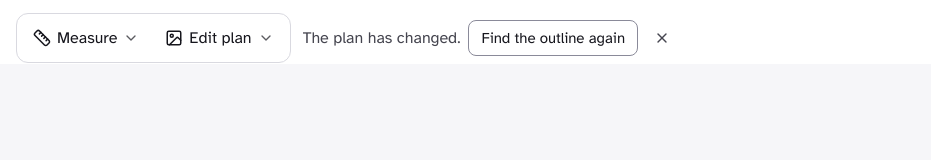
Test: the offer to find the outline again, after the plan’s image was edited › can be turned down, and stays turned down
Click the button named "Keep the outline as it is" at point(662, 38), box top-left (646, 22), bottom-right (678, 54)
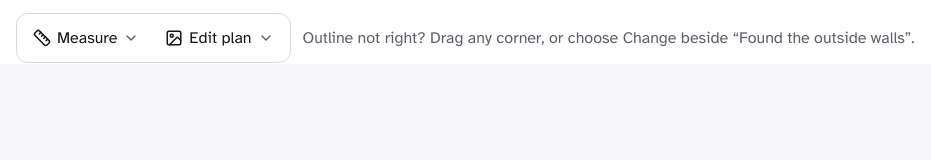
Check: the button "Find the outline again" is gone
Check: the text "Drag any corner" is shown, box top-left (303, 28), bottom-right (914, 48)
